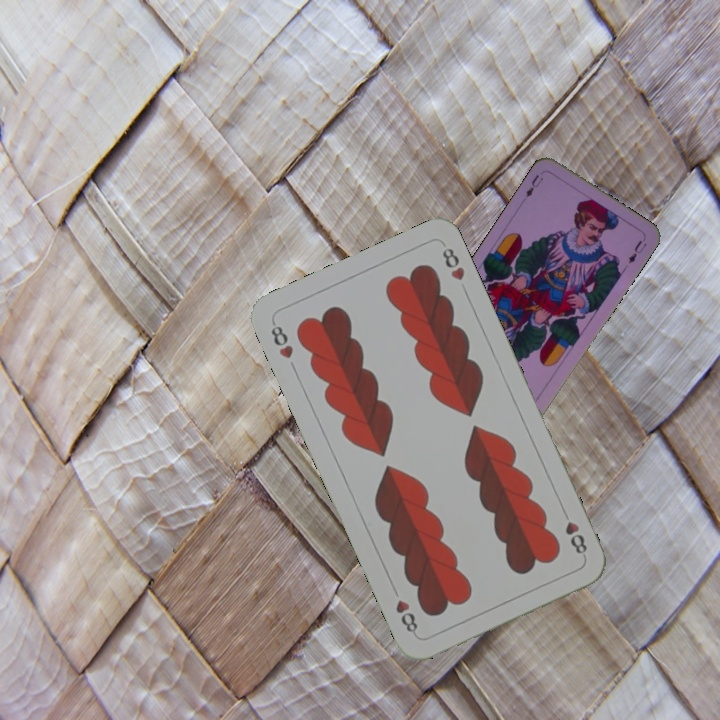EU: (522, 170, 546, 200)
H8: (266, 317, 296, 362), (561, 517, 590, 560)
